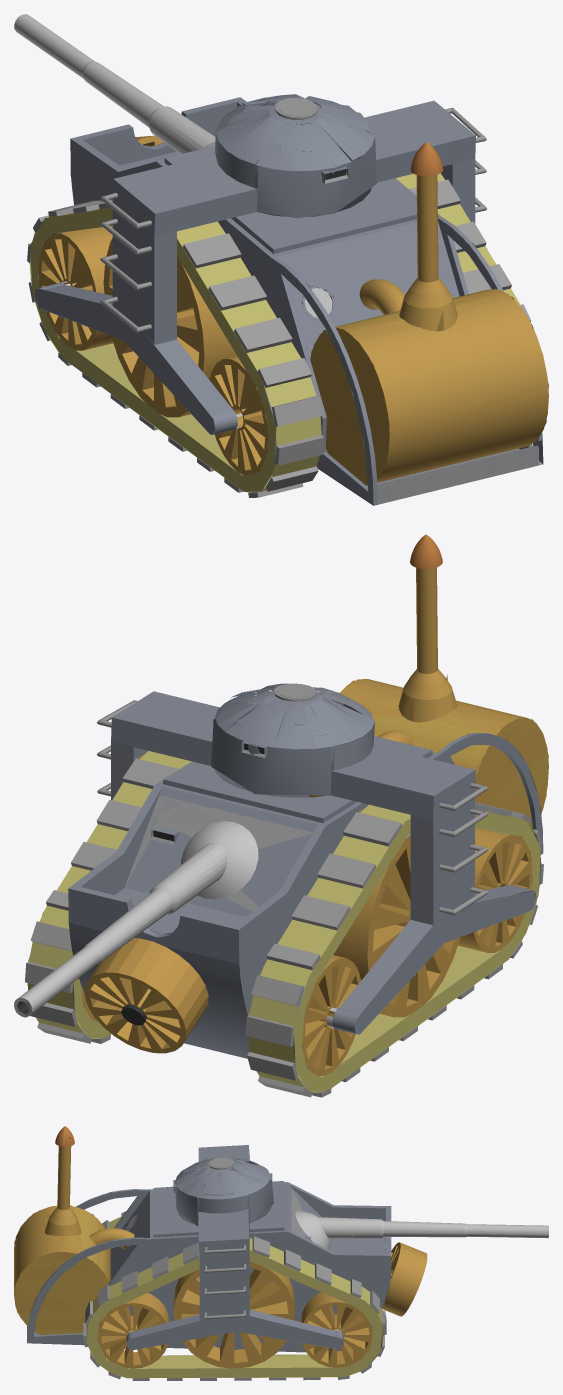
3 views of the same model, one above another, from view 1: azimuth 30°, elevation 25°; view 2: azimuth 150°, elevation 25°; view 3: azimuth 270°, elevation 25° (orthographic). The views are drawn at different scales.
Parts seen in each view (by area): view 1: Material2.005, Material2.001, Material2.003, Material2, Material2.006, Material2.004, Material2.002; view 2: Material2.005, Material2.001, Material2.003, Material2, Material2.004, Material2.002, Material2.006; view 3: Material2.005, Material2.001, Material2.003, Material2.006, Material2.004, Material2, Material2.002.
Boxes of the visible parts, x1,y1,x2,y2 form: Material2.005: (35, 94, 543, 505); Material2.001: (38, 135, 548, 484); Material2.003: (29, 173, 520, 492); Material2: (14, 17, 538, 504); Material2.006: (311, 289, 548, 485); Material2.004: (14, 14, 332, 317); Material2.002: (29, 98, 542, 492); Material2.005: (68, 683, 543, 1058); Material2.001: (81, 534, 548, 1075); Material2.003: (27, 751, 541, 1092); Material2: (14, 758, 543, 1097); Material2.004: (14, 821, 258, 1017); Material2.002: (80, 550, 541, 1092); Material2.006: (308, 674, 548, 810); Material2.005: (27, 1145, 391, 1352); Material2.001: (14, 1126, 427, 1368); Material2.003: (86, 1217, 383, 1378); Material2.006: (14, 1205, 110, 1335); Material2.004: (126, 1211, 548, 1249); Material2: (27, 1211, 386, 1380); Material2.002: (27, 1137, 381, 1377).
Bounding box in the file's own units: 342 × 331 × 742.
